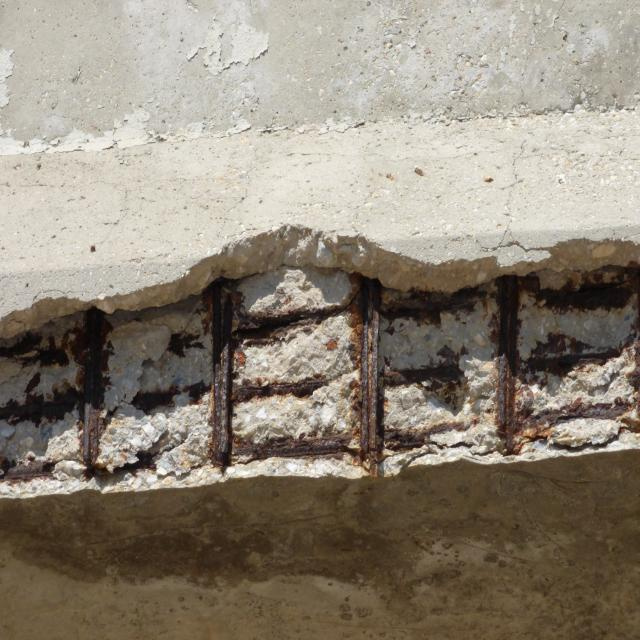corrosion: (0, 255, 640, 521)
